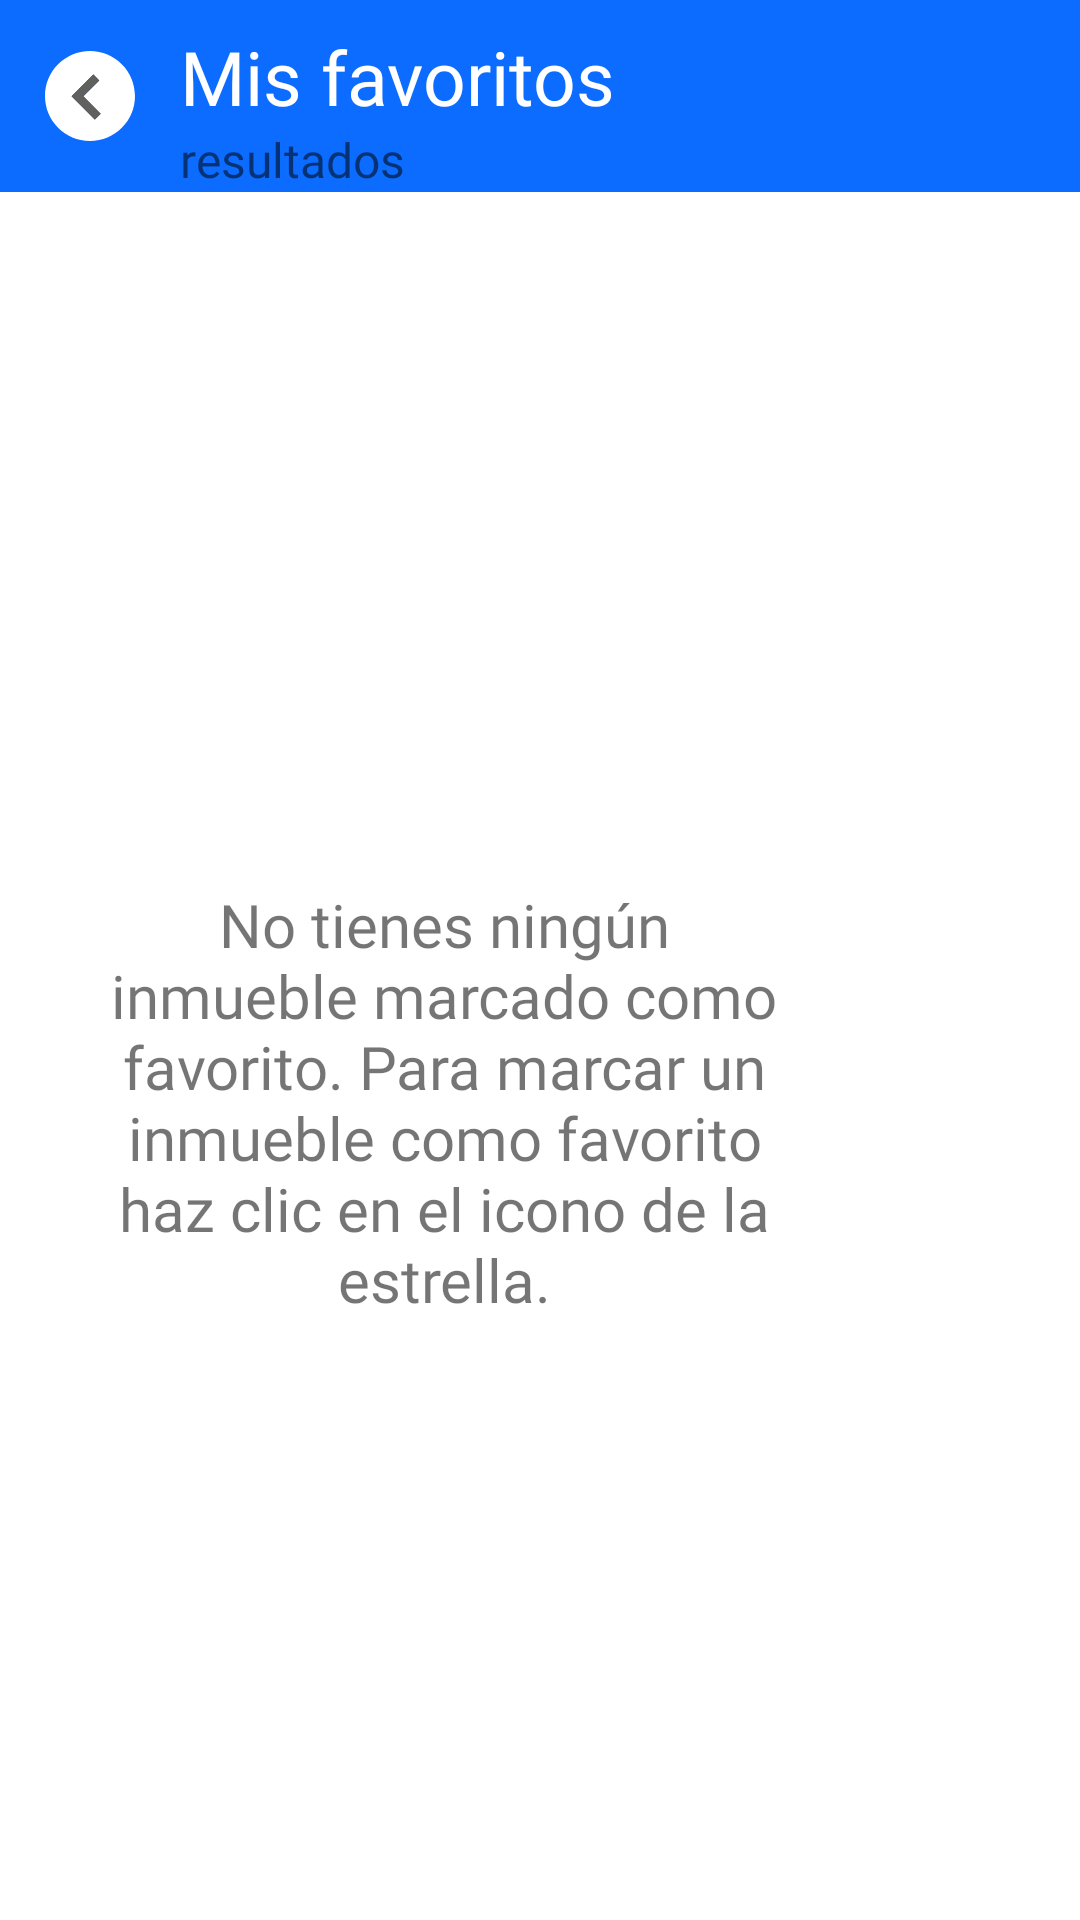

Locate icon controls on the screen. Image size 1080px x 1920px, boxes as [x1, y1, x2, y2].
back: [45, 51, 135, 141]
